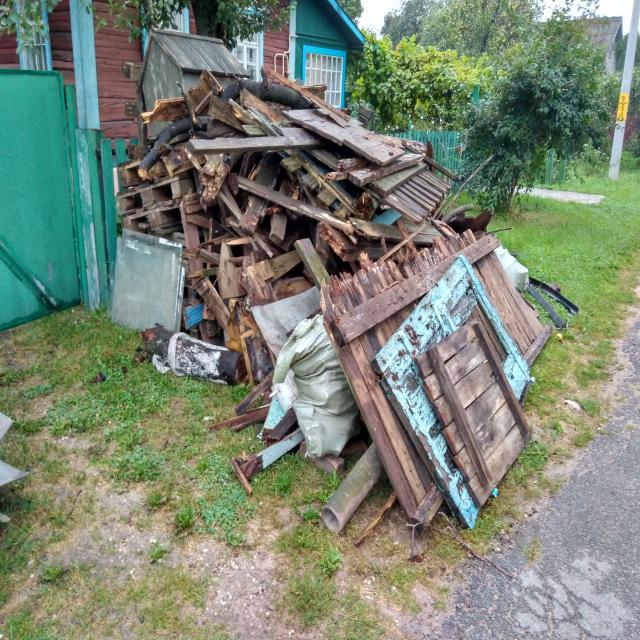entulho: (118, 61, 444, 249), (175, 110, 445, 317), (418, 307, 527, 525), (229, 316, 352, 486), (452, 230, 556, 372), (404, 252, 475, 357), (166, 331, 244, 386), (390, 168, 456, 232)
